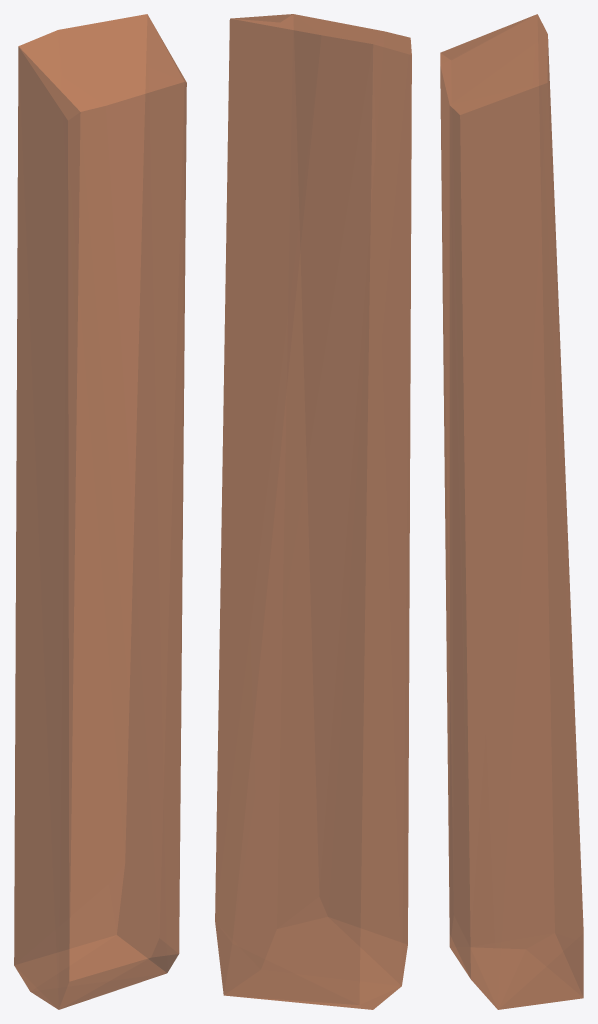
3 views of the same model, side by side, from view 1: azimuth 30°, elevation 25°; view 2: azimuth 150°, elevation 25°; view 3: azimuth 270°, elevation 25° (orthographic). The views are drawn at different scales.
Visible parts, largest first — view 1: Shape_IndexedFaceSet.038_Shape_IndexedFaceSet.18261; view 2: Shape_IndexedFaceSet.038_Shape_IndexedFaceSet.18261; view 3: Shape_IndexedFaceSet.038_Shape_IndexedFaceSet.18261.
Boxes of the visible parts, x1=… form: Shape_IndexedFaceSet.038_Shape_IndexedFaceSet.18261: x1=14, y1=14, x2=186, y2=1009; Shape_IndexedFaceSet.038_Shape_IndexedFaceSet.18261: x1=215, y1=14, x2=411, y2=1009; Shape_IndexedFaceSet.038_Shape_IndexedFaceSet.18261: x1=440, y1=14, x2=583, y2=1009.
Size of the model in its own units: 0.0862 by 0.5812 by 0.0808.
